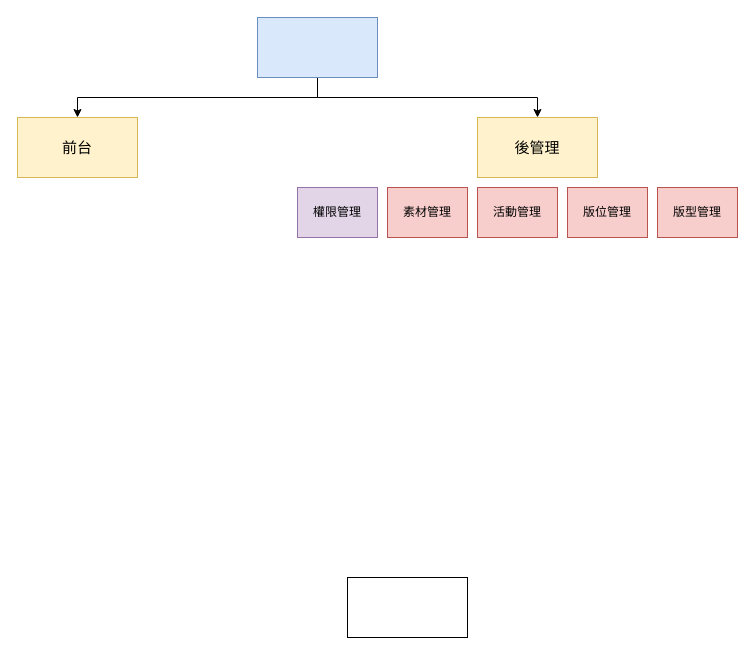
The diagram is 755 pixels wide and 655 high, and some of its shapes have lost their labels. The box of each missing label's shape, as (x1, y1, x2, y2) in pixels:
報表: (346, 576, 468, 638)
多媒體平台: (256, 16, 378, 78)
